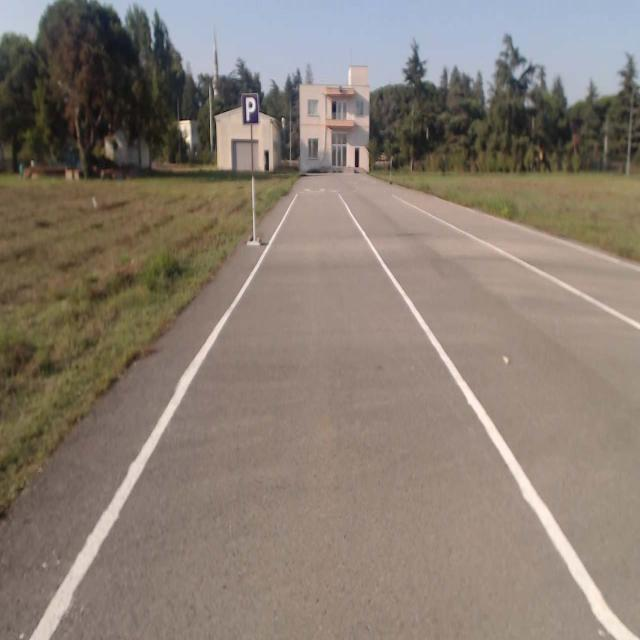park: (243, 94, 257, 124)
